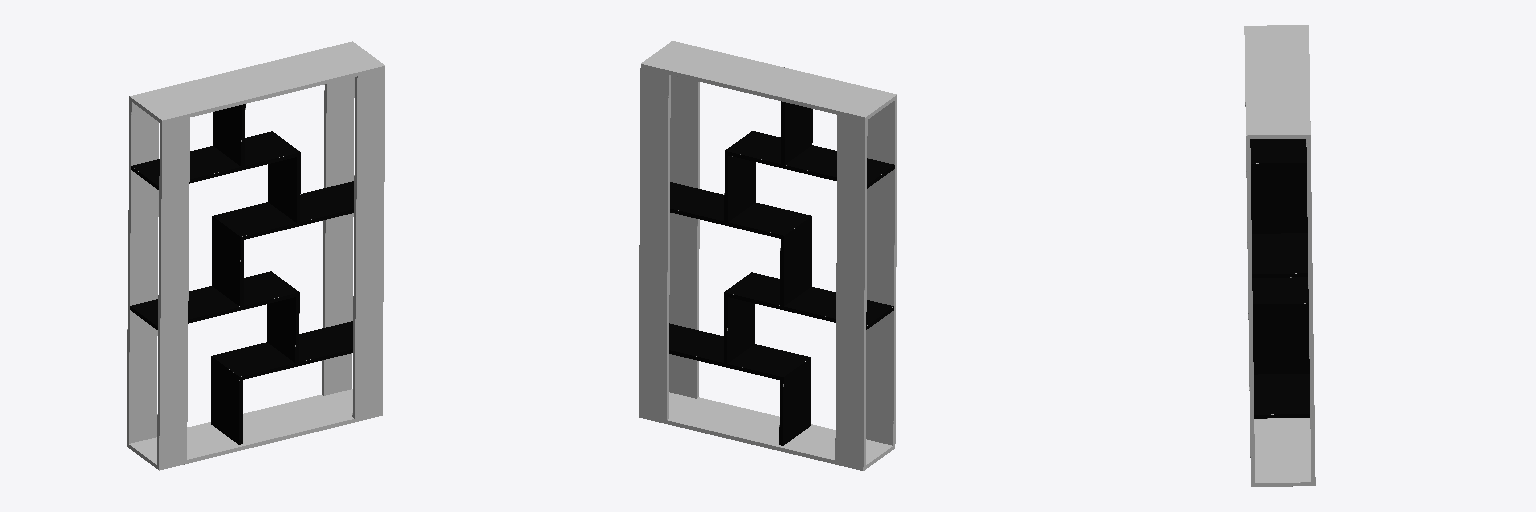
File: rack_book_shelf.obj
3 renders of one model, left to right at view 1: azimuth 30°, elevation 25°; view 2: azimuth 150°, elevation 25°; view 3: azimuth 270°, elevation 25°, orthographic.
Visible parts, largest first — view 1: Rack_Book_Shelf_putih_0, Rack_Book_Shelf_hitam_0; view 2: Rack_Book_Shelf_putih_0, Rack_Book_Shelf_hitam_0; view 3: Rack_Book_Shelf_hitam_0, Rack_Book_Shelf_putih_0.
Part boxes in pixels (left/top/right/bottom): Rack_Book_Shelf_putih_0: left=127, top=41, right=384, bottom=470; Rack_Book_Shelf_hitam_0: left=130, top=104, right=353, bottom=444; Rack_Book_Shelf_putih_0: left=639, top=41, right=896, bottom=470; Rack_Book_Shelf_hitam_0: left=669, top=101, right=894, bottom=445; Rack_Book_Shelf_hitam_0: left=1250, top=139, right=1309, bottom=418; Rack_Book_Shelf_putih_0: left=1244, top=25, right=1315, bottom=486.
Size of the model in its own units: 8.01 by 12 by 2.2.